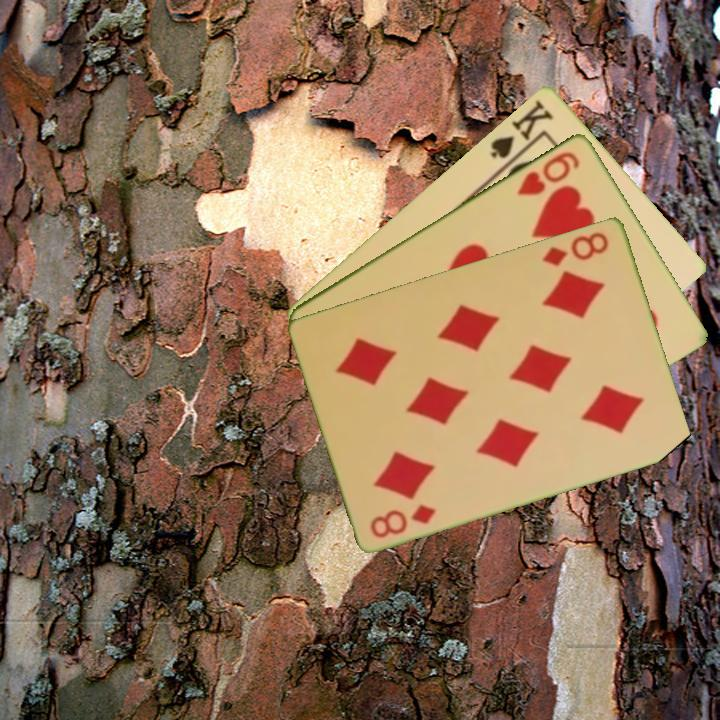6h: (513, 147, 583, 198)
8d: (538, 228, 612, 269), (366, 500, 440, 541)
Ks: (487, 96, 557, 170)
